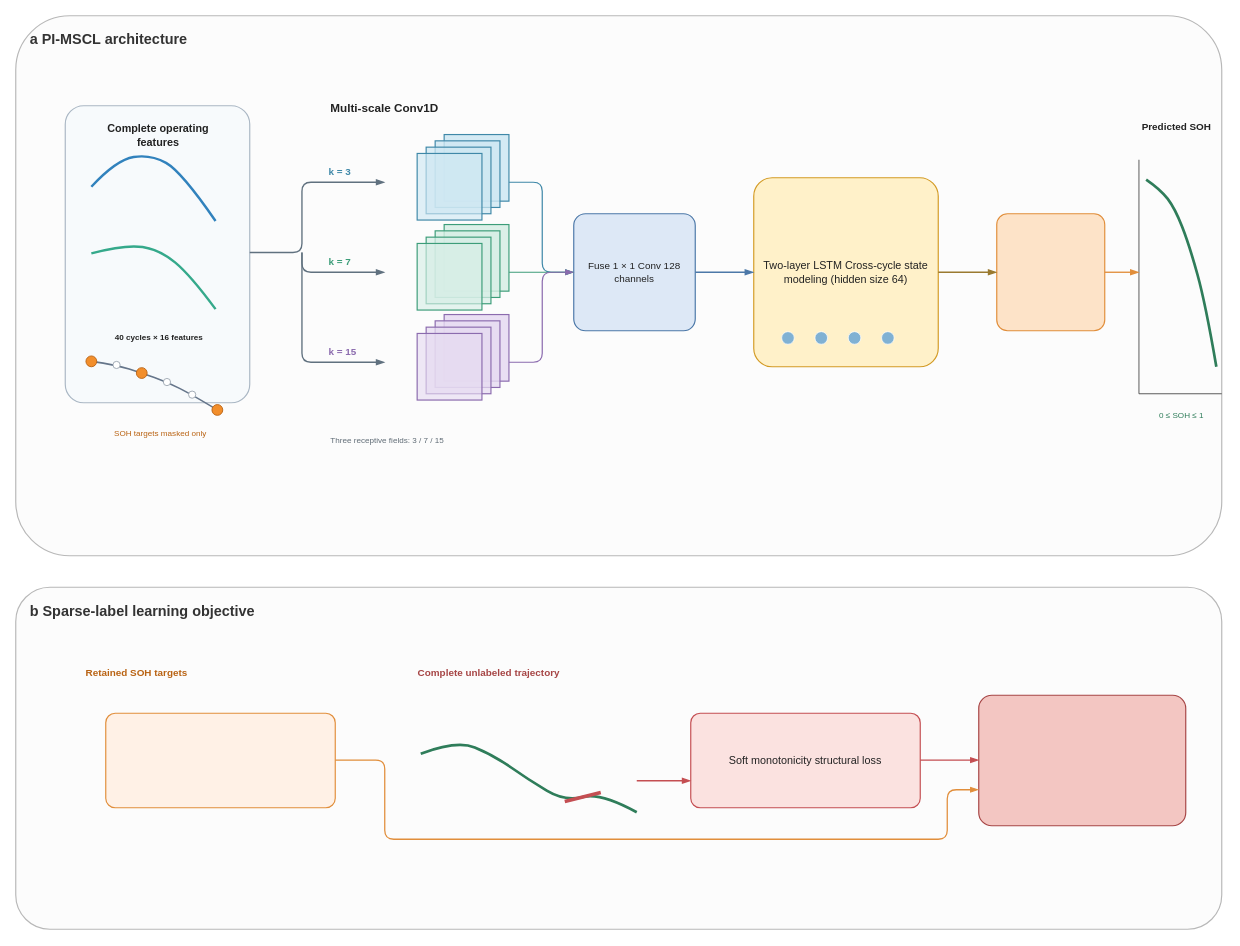
This 1240x946 diagram has some shape labels left out. Each missing label, with the centre of its shape:
FC 64 ReLU Dropout Sigmoid: pixel 1050 272
Masked data loss only retained targets: pixel 220 760
Training objective L = Ldata + λLmono: pixel 1082 760
